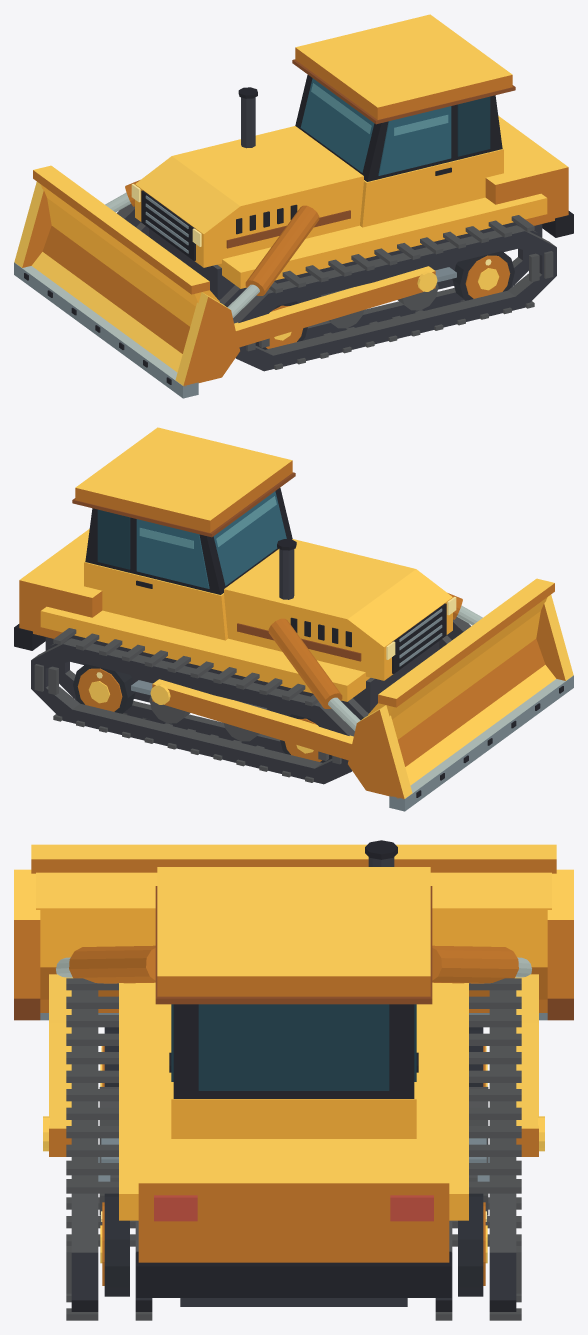
3 renders of one model, top to bottom at view 1: azimuth 30°, elevation 25°; view 2: azimuth 150°, elevation 25°; view 3: azimuth 270°, elevation 25°, orthographic. The views are drawn at different scales.
Parts seen in each view (by area): view 1: Bulldozer_body, Road_wheel_RR, Road_wheel_FR; view 2: Bulldozer_body, Road_wheel_RL, Road_wheel_FL; view 3: Bulldozer_body, Road_wheel_RL, Road_wheel_RR.
Part boxes in pixels (x1=…): Bulldozer_body: x1=14, y1=14, x2=573, y2=398; Road_wheel_RR: x1=452, y1=251, x2=514, y2=300; Road_wheel_FR: x1=255, y1=301, x2=307, y2=349; Bulldozer_body: x1=14, y1=427, x2=573, y2=811; Road_wheel_RL: x1=73, y1=664, x2=135, y2=713; Road_wheel_FL: x1=280, y1=714, x2=332, y2=762; Bulldozer_body: x1=14, y1=840, x2=573, y2=1320; Road_wheel_RL: x1=458, y1=1193, x2=487, y2=1296; Road_wheel_RR: x1=100, y1=1193, x2=129, y2=1296.
Size of the model in its own units: 93.8 by 44 by 64.
1 material, 1 textured.
